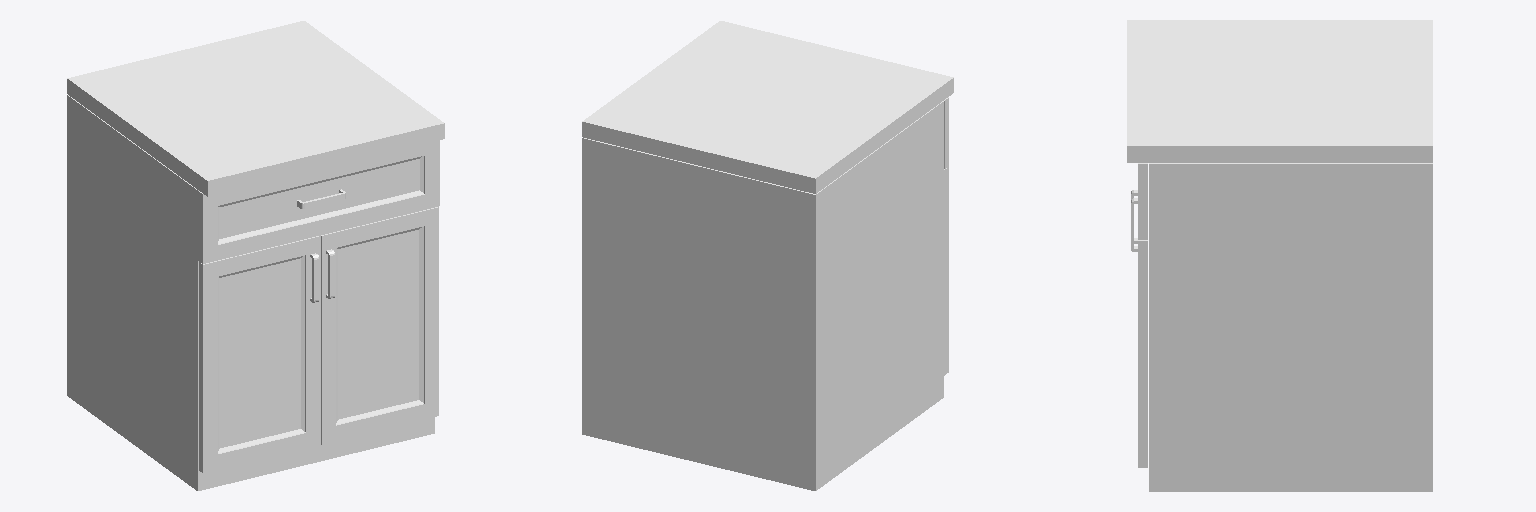
URDF robot description (model.urdf):
<?xml version="1.0" ?>
<robot name="model.urdf">
  <link name="baseLink">
    <contact>
      <friction_anchor/>
      <lateral_friction value="0.3"/>
      <rolling_friction value="0.0"/>
      <contact_cfm value="0.0"/>
      <contact_erp value="1.0"/>
    </contact>
    <inertial>
       <origin rpy="0 0 0" xyz="0 0 0"/>
       <mass value="0.1"/>
       <inertia ixx="8e-05" ixy="0" ixz="0" iyy="0.0002" iyz="0" izz="0.0002"/>
    </inertial>
    <visual>
      <geometry>
        <mesh filename="countertop.obj" scale="1 1 1"/>
      </geometry>
      <material name="white">
        <color rgba="1 1 1 1"/>
      </material>
    </visual>
    <collision>
      <geometry>
    	 	<mesh filename="countertop.obj" scale="1 1 1"/>
      </geometry>
    </collision>
  </link>
</robot>

--- What the picture shows (computed from the rendered views, not written in the file) ---
3 views of the same robot in one strip: view 1: azimuth 30°, elevation 25°; view 2: azimuth 150°, elevation 25°; view 3: azimuth 270°, elevation 25° (orthographic).
Model model.urdf with 1 links and 0 joints (none), rooted at baseLink, posed every joint at zero.
Links seen in each view (by area): view 1: baseLink; view 2: baseLink; view 3: baseLink.
Link boxes in pixels (<box>): baseLink: <box>67,21,444,490</box>; baseLink: <box>582,21,953,490</box>; baseLink: <box>1127,20,1432,491</box>.
Size in the robot's own frame: 0.6479 by 0.6641 by 0.8292 metres.
1 mesh visuals loaded from 1 distinct referenced files (1 OBJ).
